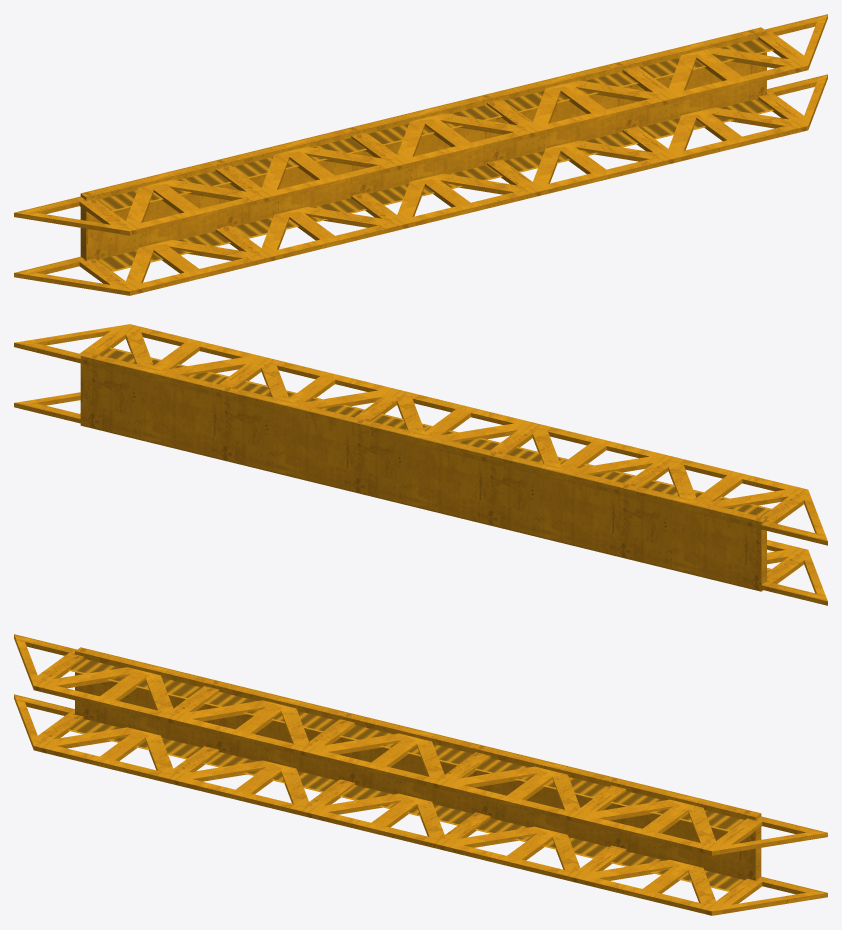
File: SGY_CDC01.gltf
3 views of the same model, one above another, from view 1: azimuth 30°, elevation 25°; view 2: azimuth 150°, elevation 25°; view 3: azimuth 330°, elevation 25° (orthographic).
Bounding box in the file's own units: 48.85 × 4 × 5.
Materials: 1 (1 with a texture image).
